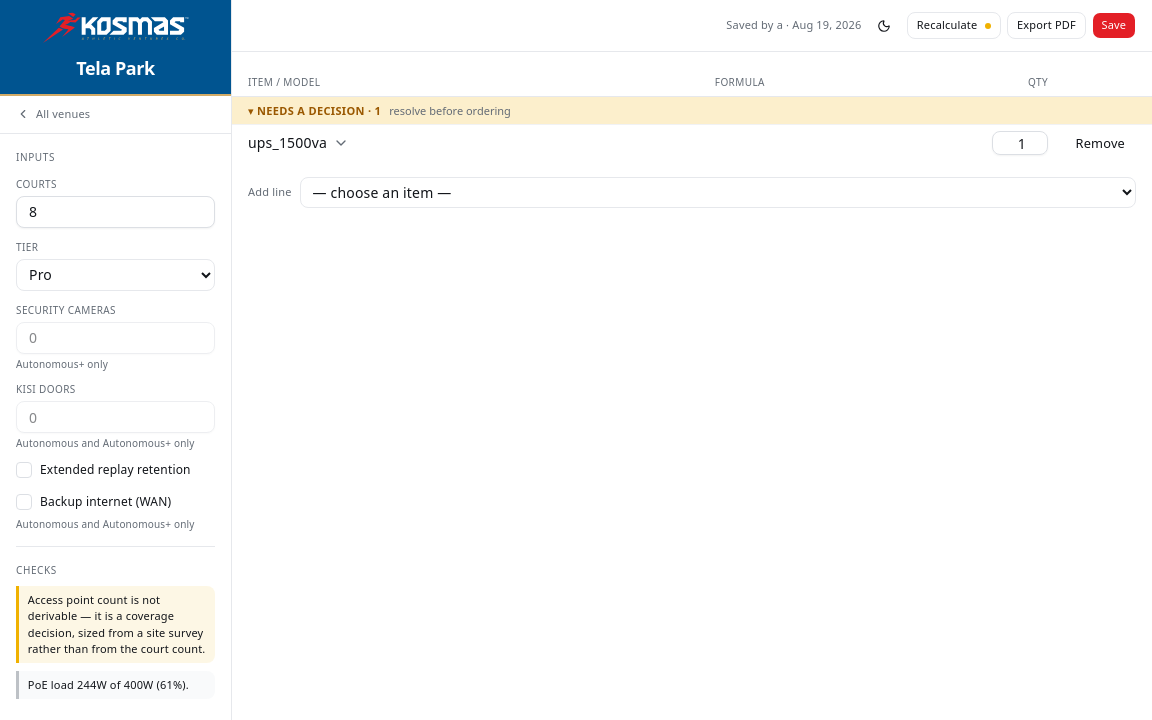
Scenario: offers to remove lines that point at no item, rather than dead-ending
Click the button "Save".
click(1114, 26)  # box [1092, 12, 1136, 39]
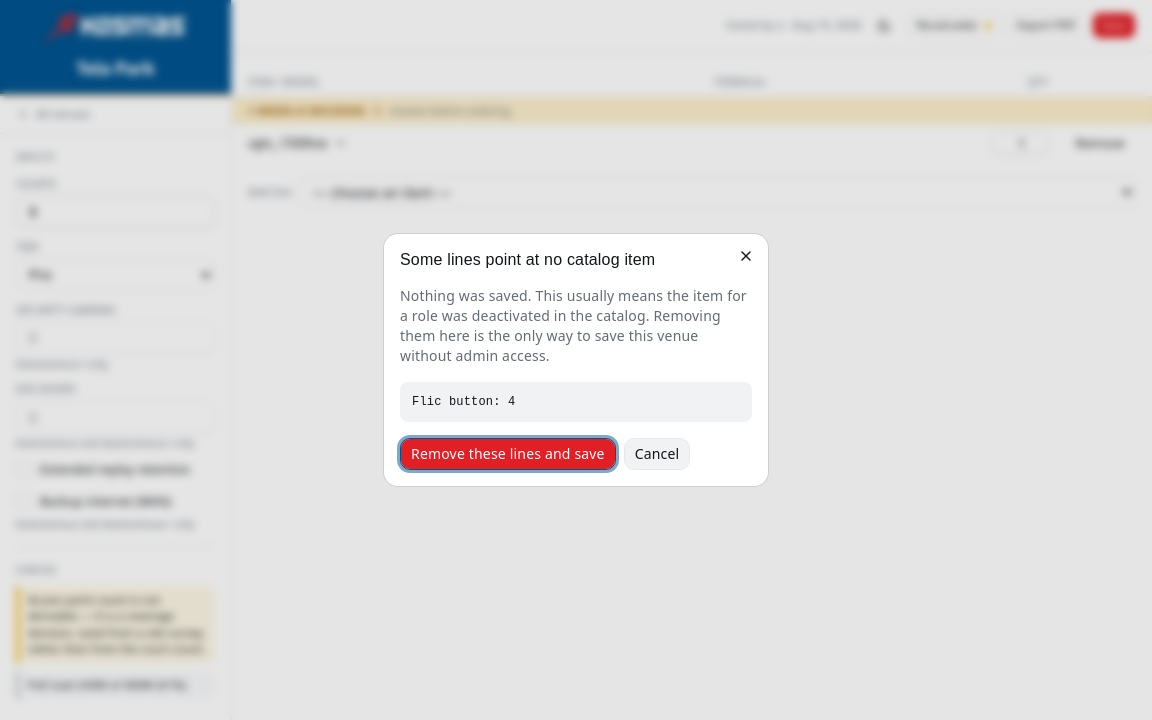
Expected: the button "Remove these lines and save" is shown, [400, 438, 616, 470]
